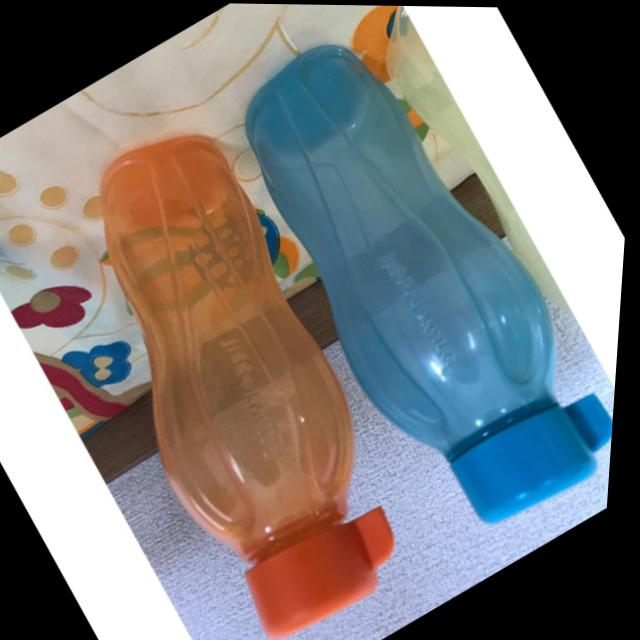plastic: (0, 138, 392, 639), (246, 6, 623, 516)
